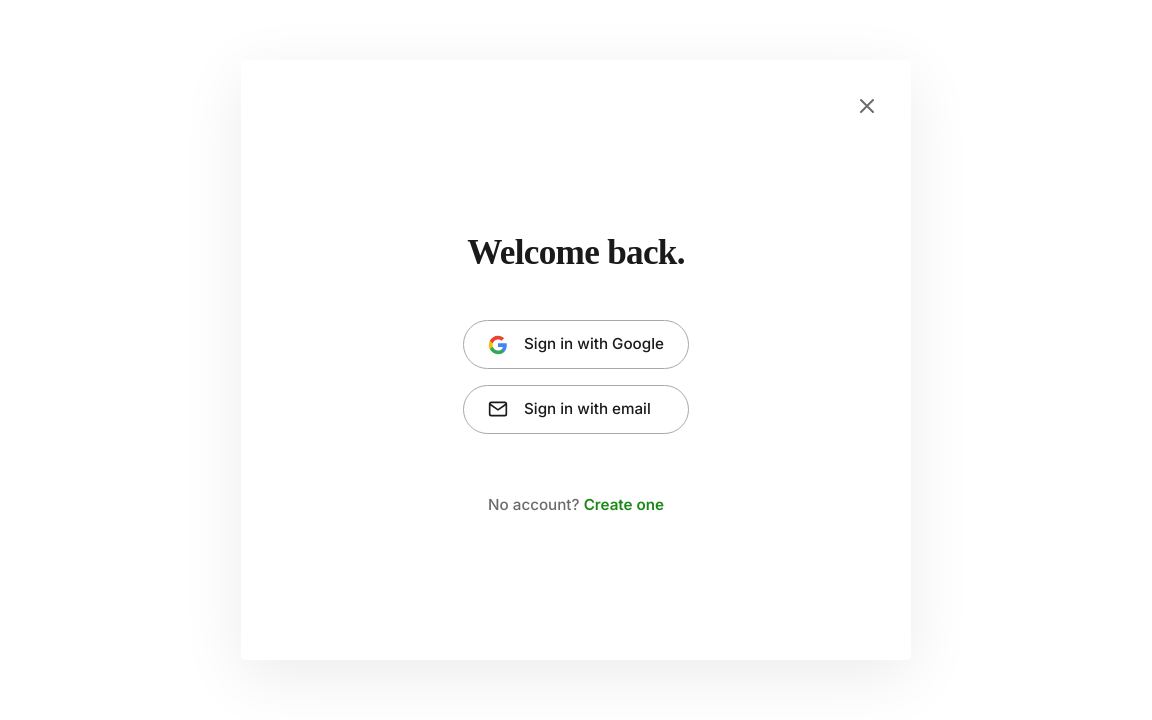
Login Component › signs up user successfully when form is valid
// Switch to Create Account mode
Click the button "Create one" at (624, 505), box [584, 494, 664, 517]
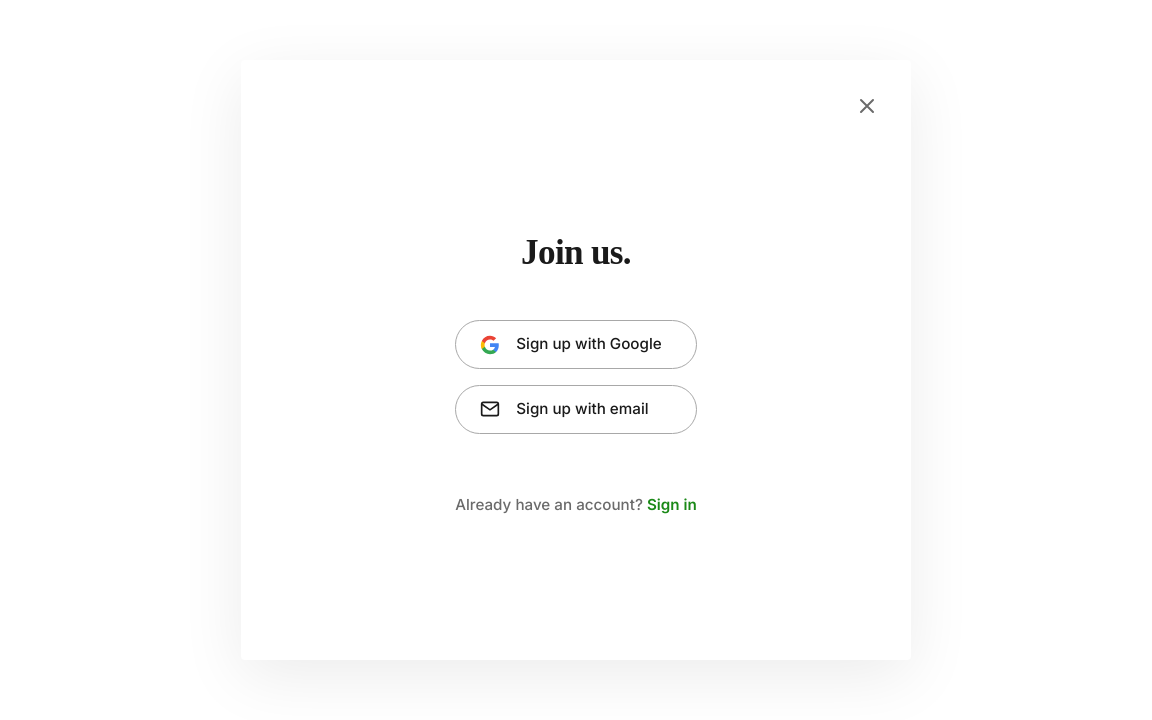
// Expand the email form
Click the button "Sign up with email" at (576, 409), box [455, 385, 697, 434]
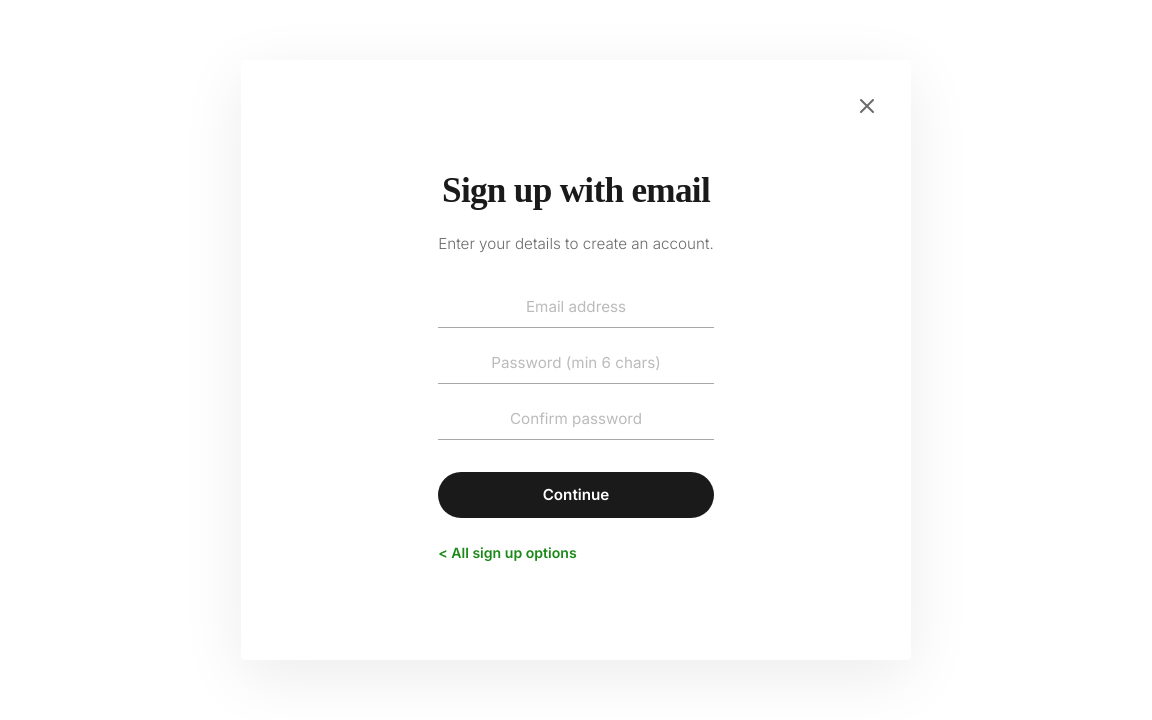
Type "user@example.com" into the field with placeholder "Email address" at (576, 308), box [438, 288, 714, 328]
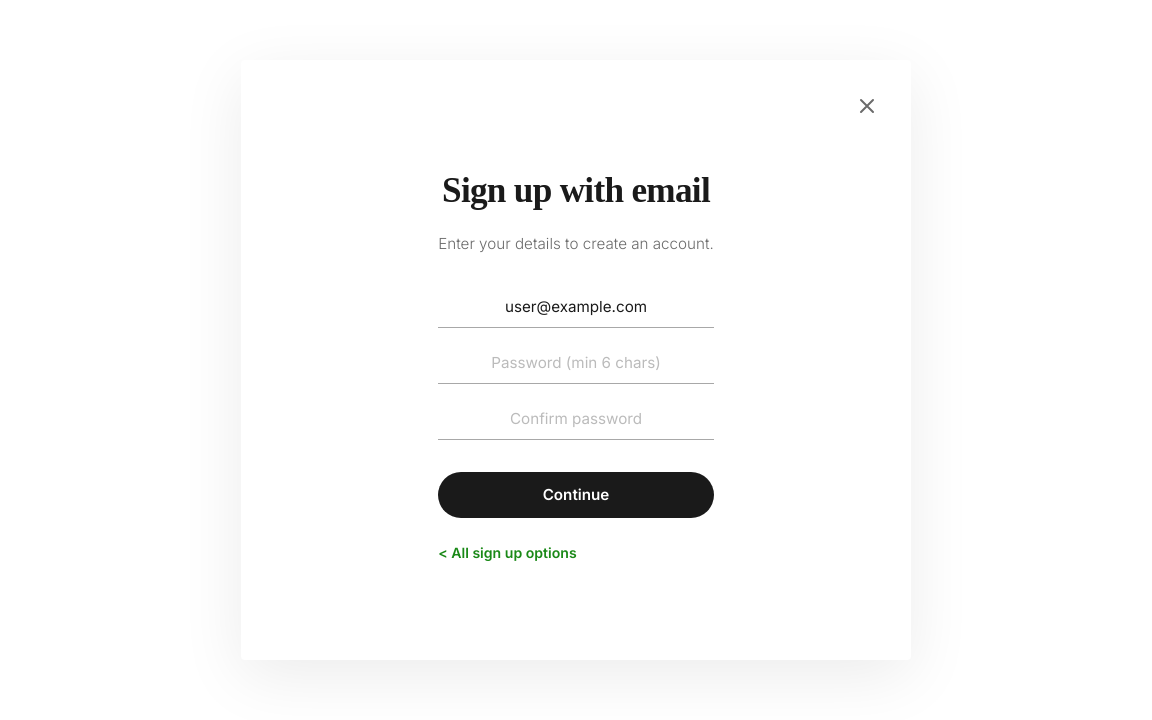
Type "Password123!" into the password field with placeholder "Password (min 6 chars)" at (576, 364), box [438, 344, 714, 384]
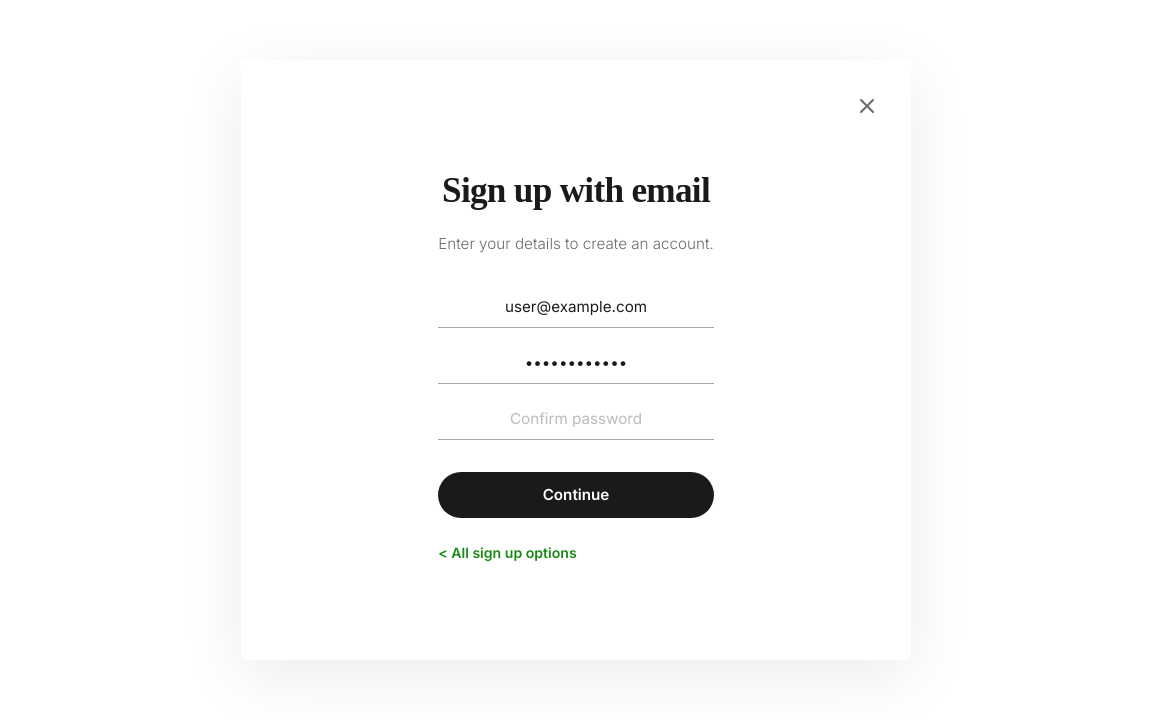
Type "Password123!" into the password field with placeholder "Confirm password" at (576, 420), box [438, 400, 714, 440]
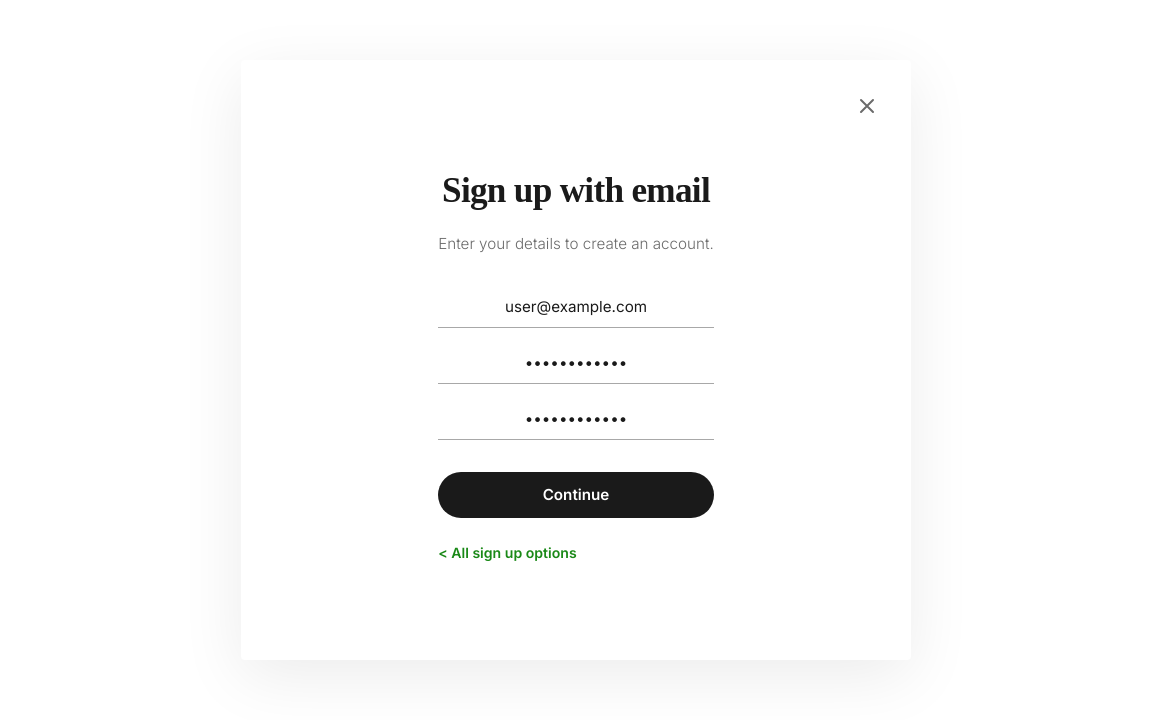
Click the button with id "login-submit-btn" at (576, 495), box [438, 472, 714, 518]
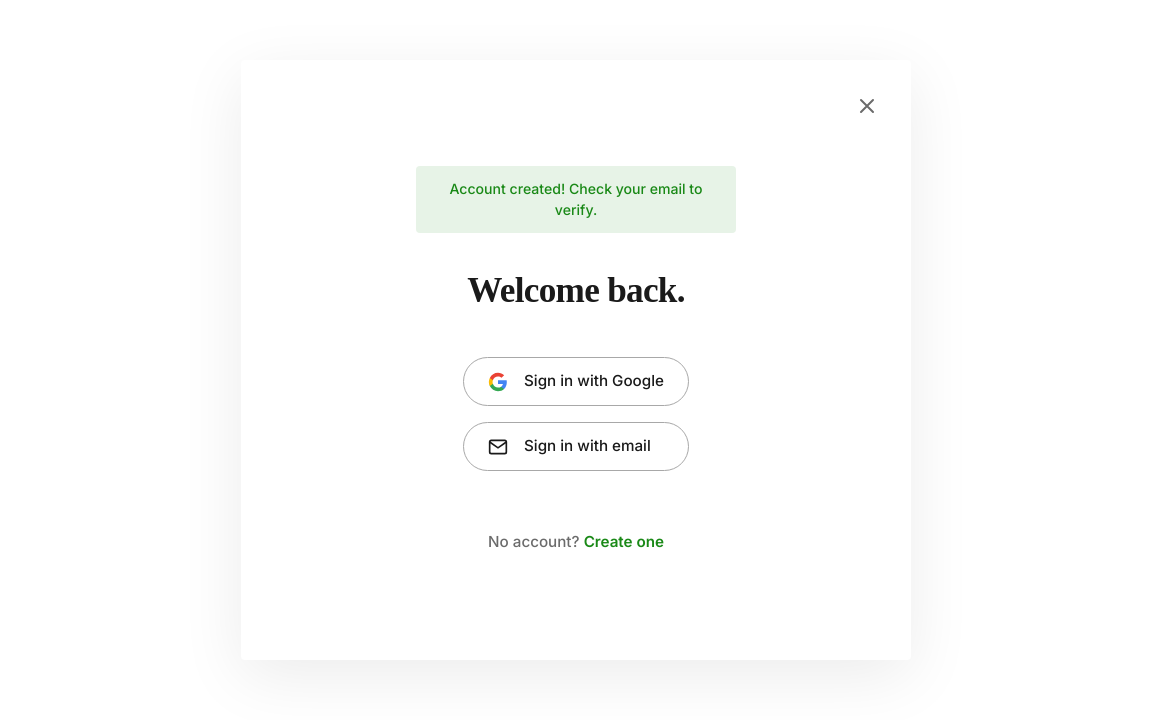
Now the text "Account created! Check your email to verify." is shown, box [416, 166, 736, 232]
